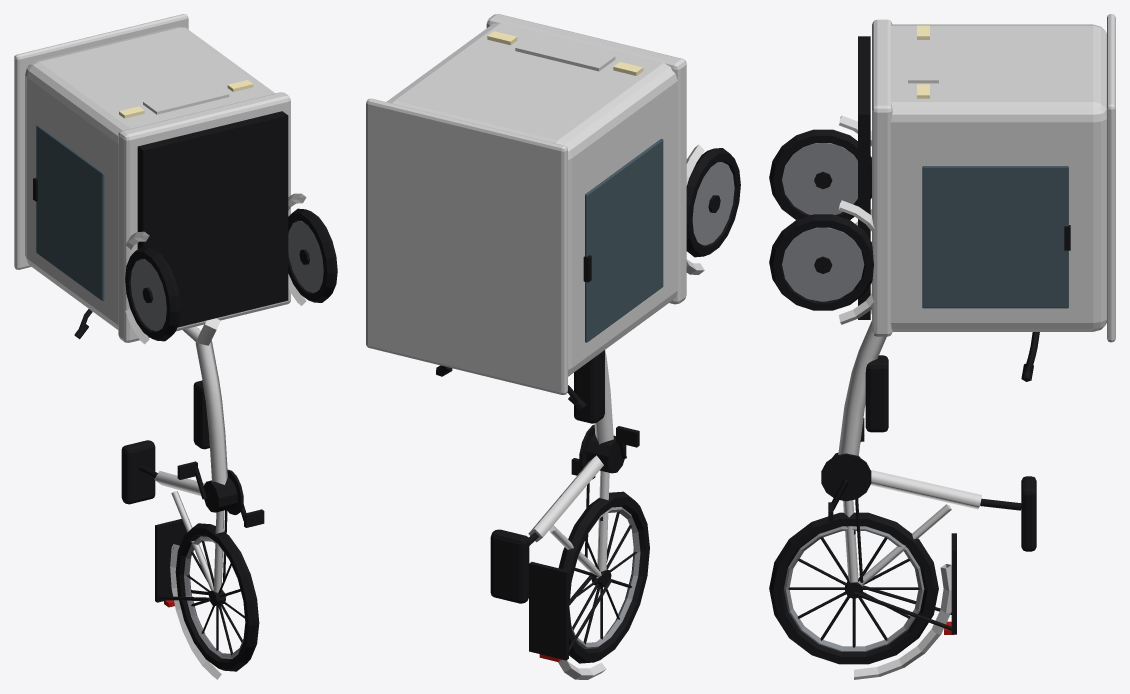
File: SolarpunkCargoBikeBox01.fbx
3 renders of one model, left to right at view 1: azimuth 30°, elevation 25°; view 2: azimuth 150°, elevation 25°; view 3: azimuth 270°, elevation 25°, orthographic. The views are drawn at different scales.
Visible parts, largest first — view 1: SolarpunkCargoBikeBox01; view 2: SolarpunkCargoBikeBox01; view 3: SolarpunkCargoBikeBox01.
Boxes of the visible parts, x1,y1,x2,y2 form: SolarpunkCargoBikeBox01: [14, 14, 337, 679]; SolarpunkCargoBikeBox01: [366, 14, 740, 679]; SolarpunkCargoBikeBox01: [769, 14, 1115, 679].
Bounding box in the file's own units: 86 × 266 × 135.
Materials: 1 (1 with a texture image).
